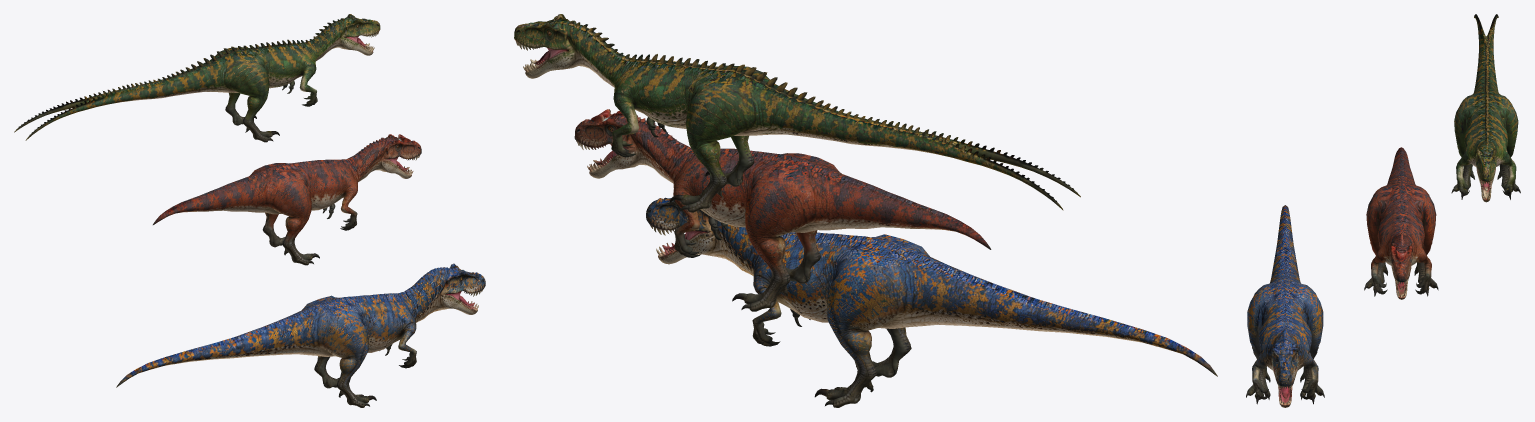
File: carnos_sculpts.glb
3 views of the same model, side by side, from view 1: azimuth 30°, elevation 25°; view 2: azimuth 150°, elevation 25°; view 3: azimuth 270°, elevation 25° (orthographic). The views are drawn at different scales.
Visible parts, largest first — view 1: tripo_node_a5457294-9070-4020-b043-2d16e8d21f05; view 2: tripo_node_a5457294-9070-4020-b043-2d16e8d21f05; view 3: tripo_node_a5457294-9070-4020-b043-2d16e8d21f05.
Part boxes in pixels (bbox=[...]): tripo_node_a5457294-9070-4020-b043-2d16e8d21f05: bbox=[14, 14, 485, 407]; tripo_node_a5457294-9070-4020-b043-2d16e8d21f05: bbox=[514, 14, 1217, 407]; tripo_node_a5457294-9070-4020-b043-2d16e8d21f05: bbox=[1246, 14, 1520, 407].
Bounding box in the file's own units: 0.9995 × 0.7358 × 0.6089.
Materials: 1 (1 with a texture image).
